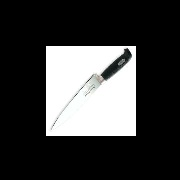k1: (49, 72, 106, 133)
